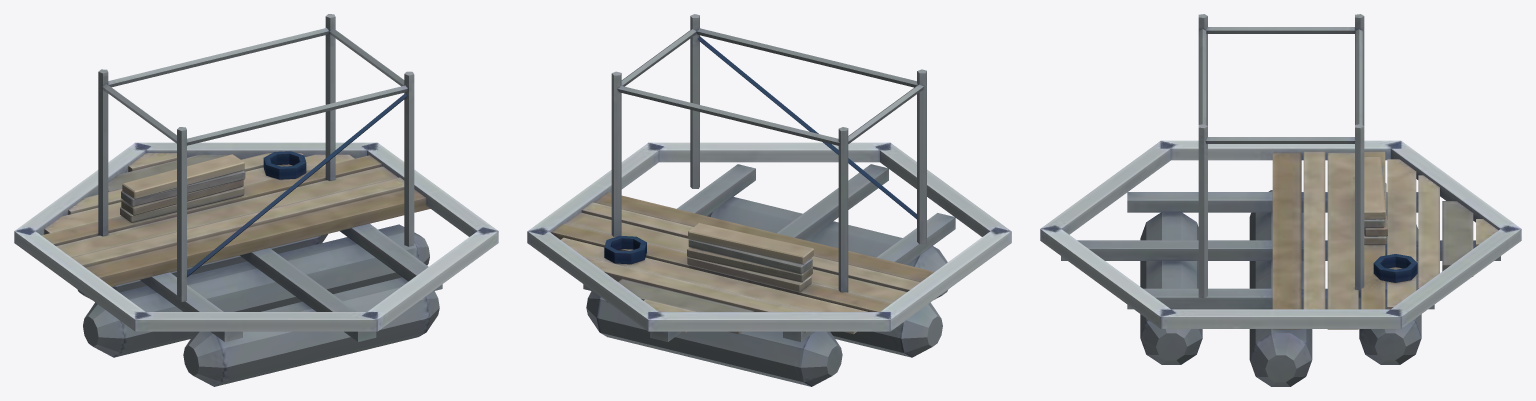
Rendered from raft-yard-age20.glb.
The picture shows the model from 3 angles, left to right: view 1: azimuth 30°, elevation 25°; view 2: azimuth 150°, elevation 25°; view 3: azimuth 270°, elevation 25°; orthographic projection.
Parts seen in each view (by area): view 1: raft-yard-age20; view 2: raft-yard-age20; view 3: raft-yard-age20.
Part boxes in pixels (<box>): raft-yard-age20: <box>14,14,498,386</box>; raft-yard-age20: <box>527,14,1011,386</box>; raft-yard-age20: <box>1040,14,1521,386</box>.
Size of the model in its own units: 1.6 by 1.03 by 1.85.
1 material, 1 textured.
